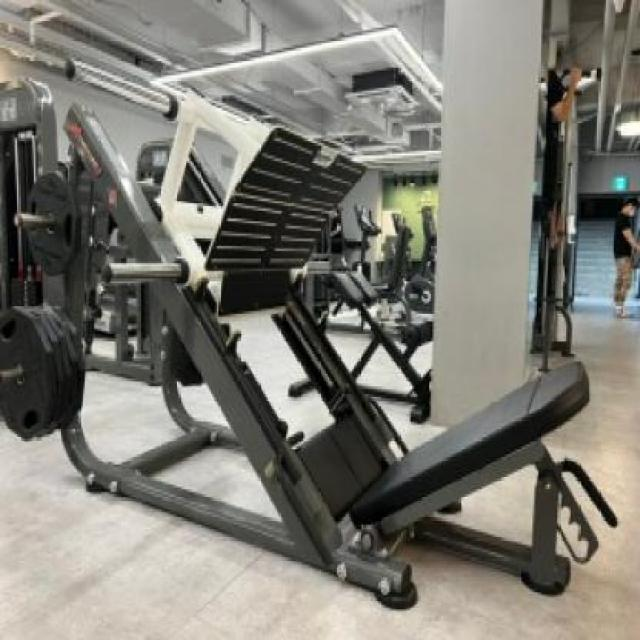leg press: (4, 66, 640, 640)
